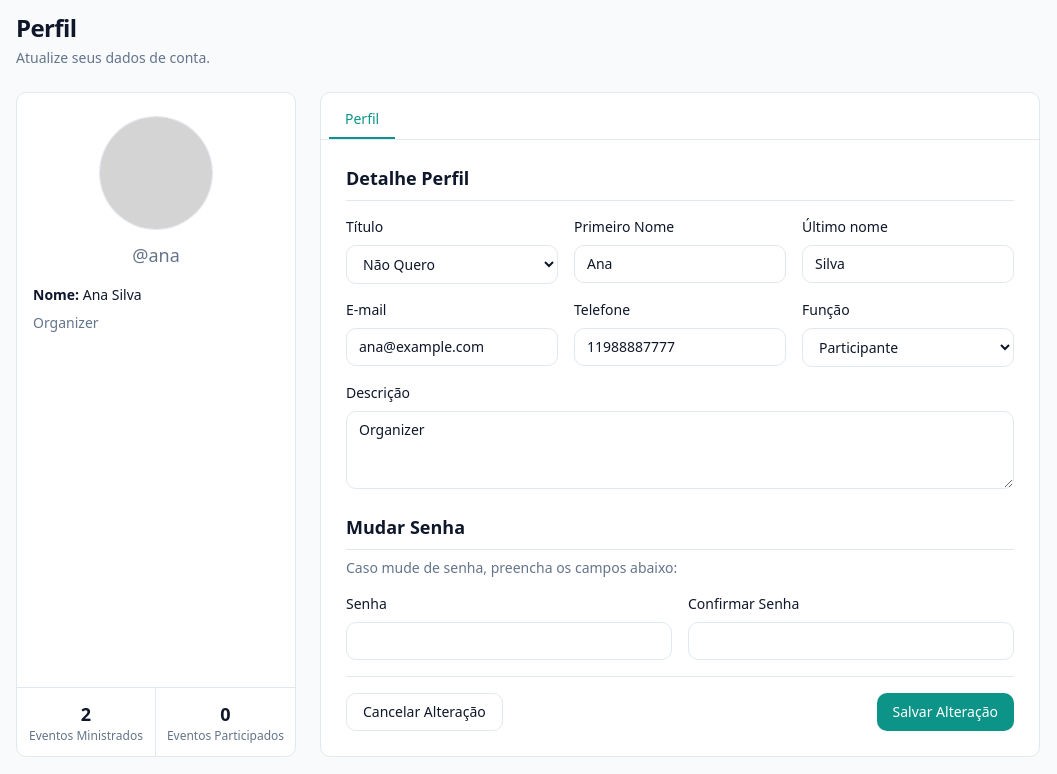
Scenario: ProfilePage › cancelEdit restores form values
Replace the text in the field labelled "Telefone" with "11900001111" at [680, 347], box [574,328,786,366]
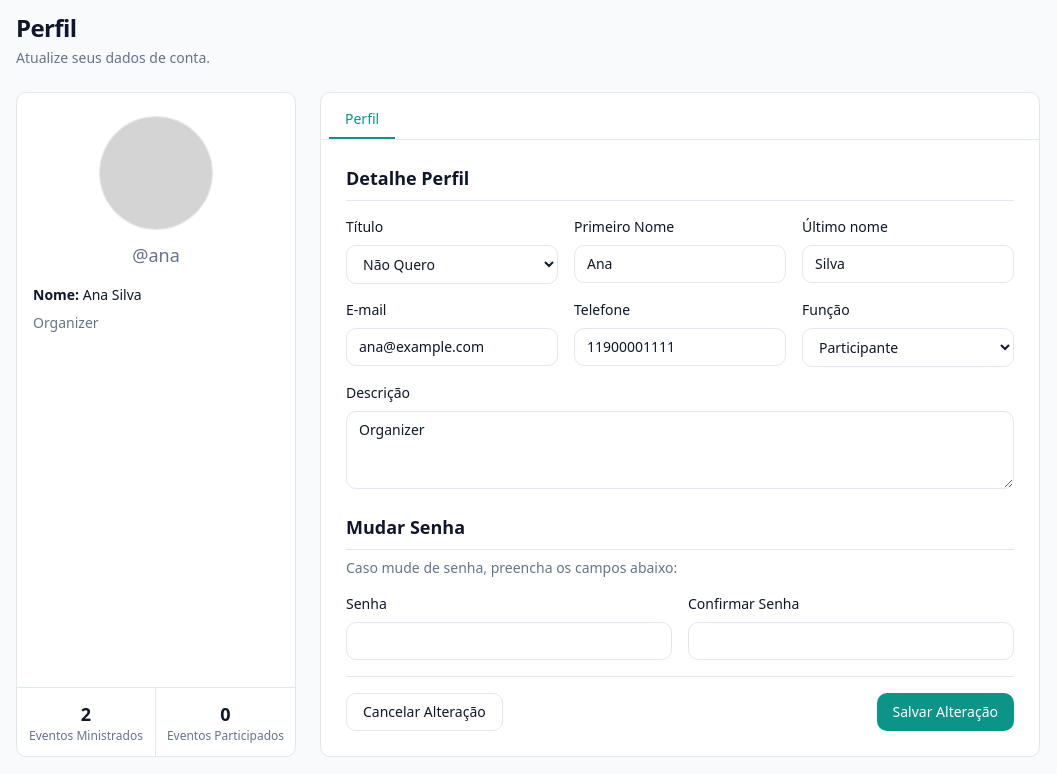
Click the button "Cancelar Alteração" at [424, 712], box [346,693,503,731]
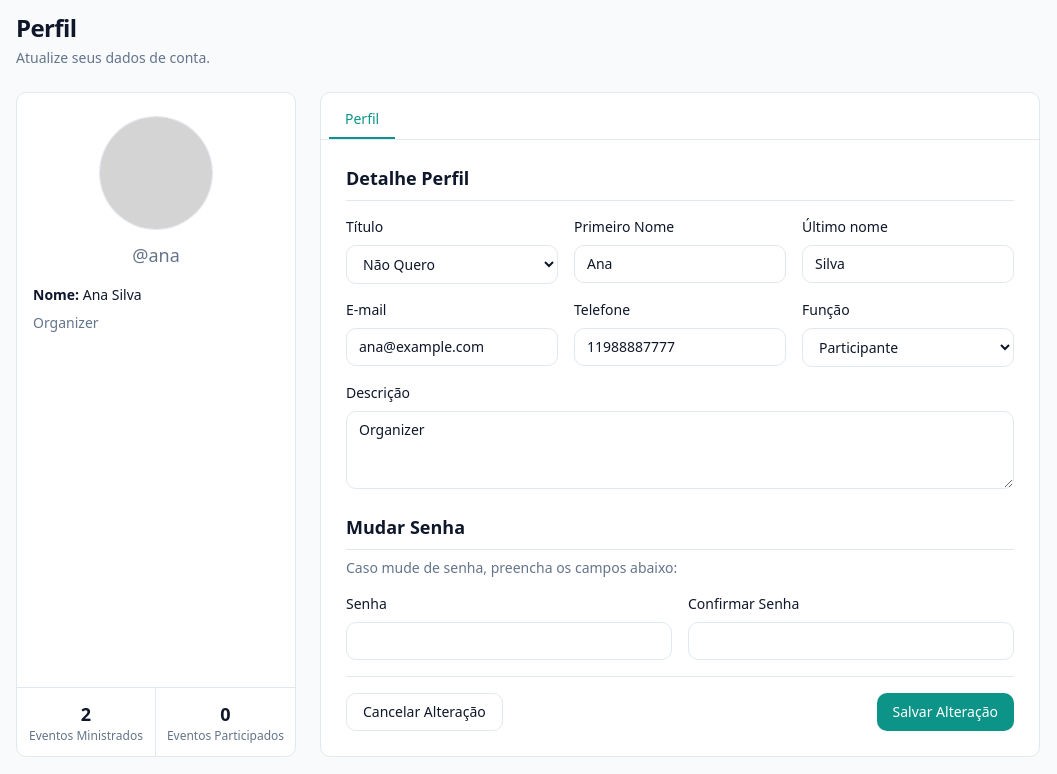
Check: the field showing "11988887777" is shown, box [574,328,786,366]
